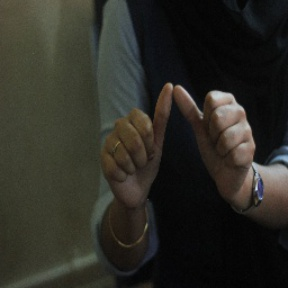A: (106, 80, 258, 199)
